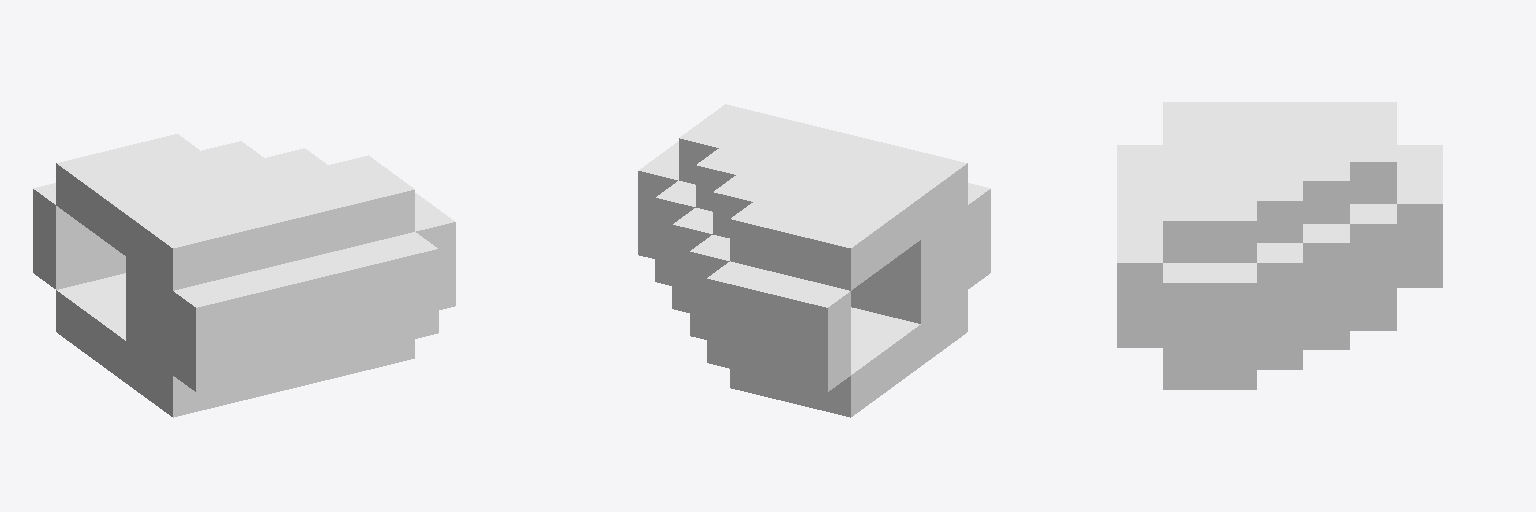
The model's file is female-52.obj.
The picture shows the model from 3 angles: view 1: azimuth 30°, elevation 25°; view 2: azimuth 150°, elevation 25°; view 3: azimuth 270°, elevation 25°; orthographic projection.
Parts seen in each view (by area): view 1: object 1; view 2: object 1; view 3: object 1.
Boxes of the visible parts, x1,y1,x2,y2 form: object 1: [33, 134, 455, 417]; object 1: [638, 104, 990, 417]; object 1: [1117, 102, 1442, 389].
Size of the model in its own units: 0.7 by 0.4 by 0.7.